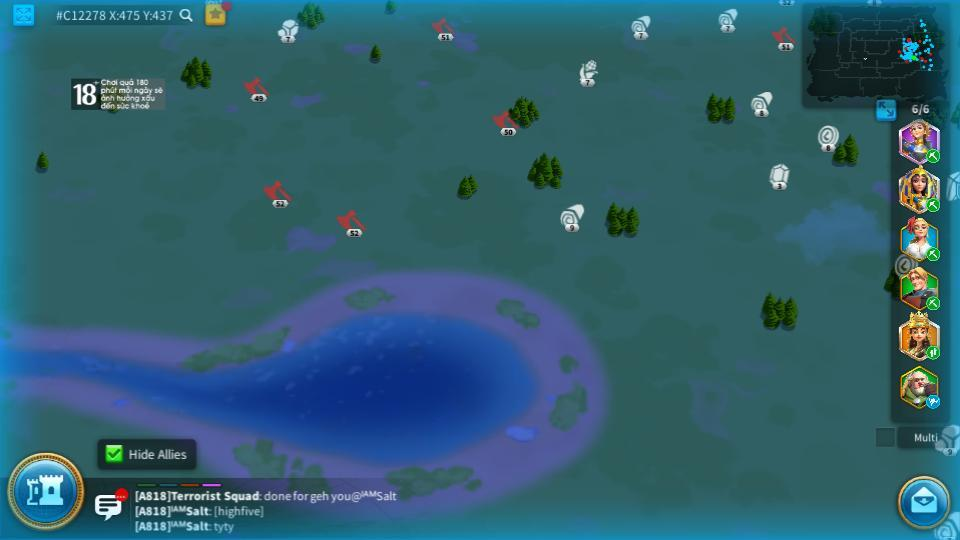gem-z-out: (769, 164, 789, 190)
march_farming: (925, 297, 941, 308)
march_idle: (925, 396, 942, 408)
march_marching: (925, 345, 941, 359), (925, 199, 942, 212), (925, 149, 941, 162)
